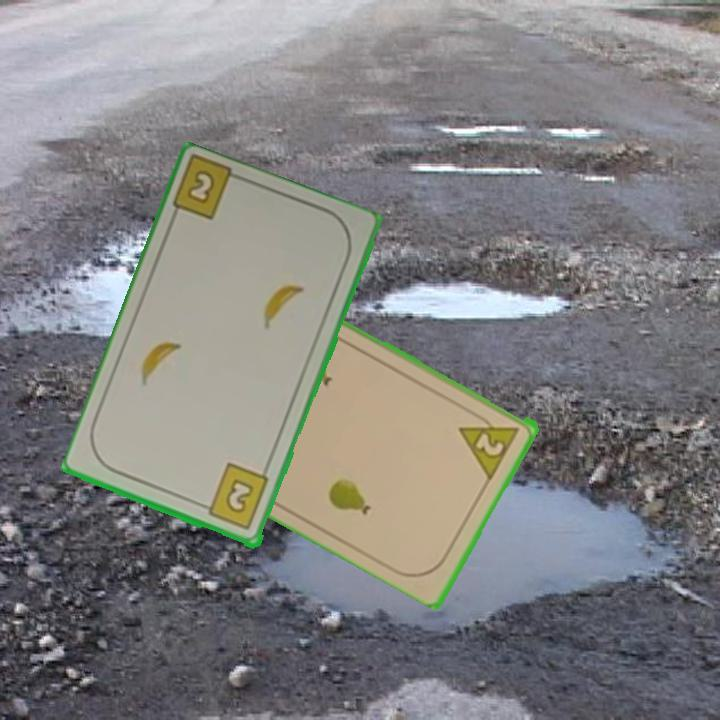2b: (197, 460, 272, 533), (183, 166, 218, 208)
2p: (455, 408, 524, 481)
